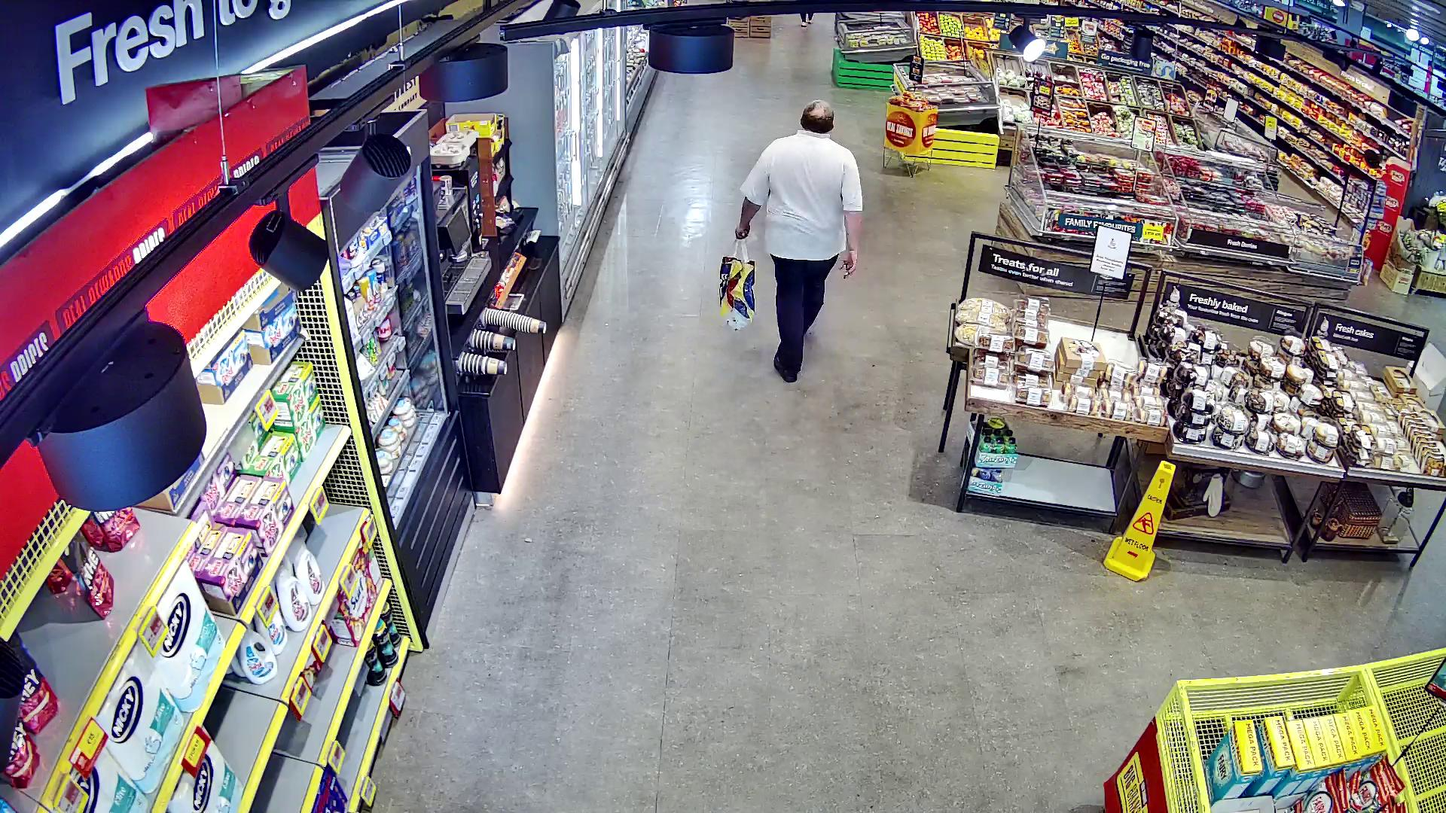filled-shopping-bags: (720, 237, 756, 332)
person: (735, 98, 864, 382)
person-with-filled-shopping-bag-s-: (719, 97, 864, 381)
